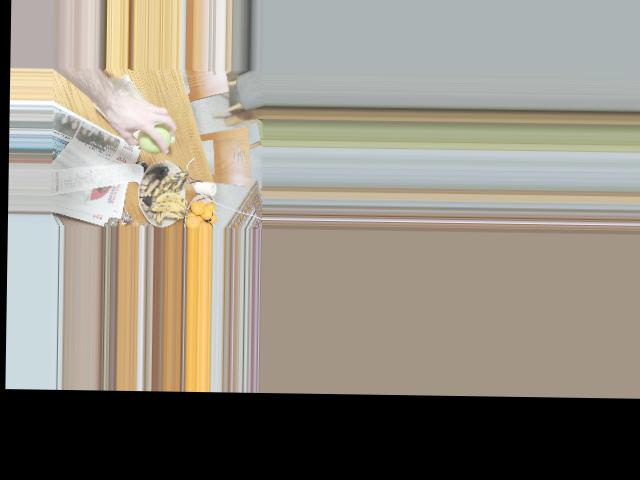apple: (135, 120, 173, 152)
